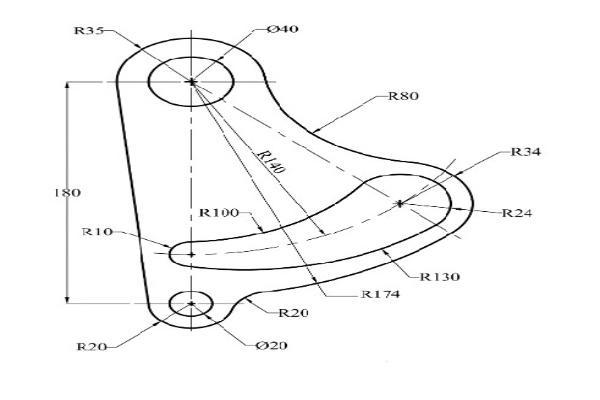dimensions: (256, 144, 294, 178), (356, 283, 404, 306), (507, 141, 550, 166), (414, 268, 466, 286), (71, 19, 109, 42), (266, 17, 301, 41), (195, 204, 241, 222), (499, 206, 536, 227), (74, 335, 109, 357), (254, 337, 292, 357), (388, 86, 424, 104), (81, 224, 118, 241), (277, 306, 311, 323), (54, 184, 85, 201)
